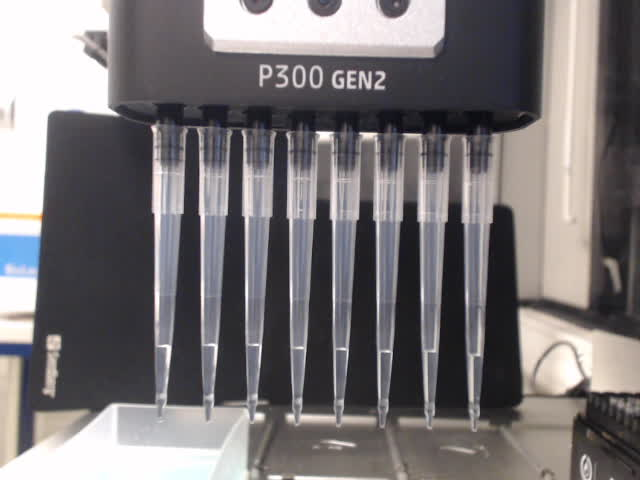Liquid: (150, 339, 177, 421), (198, 338, 223, 423), (242, 338, 266, 426), (289, 341, 312, 430), (464, 349, 488, 434), (419, 345, 441, 434), (333, 343, 355, 429), (376, 344, 396, 433)
Tip: (148, 120, 191, 426), (459, 132, 501, 437), (238, 126, 280, 427), (369, 130, 408, 435), (327, 129, 365, 428), (416, 130, 453, 437), (284, 127, 321, 430), (195, 122, 232, 425)
